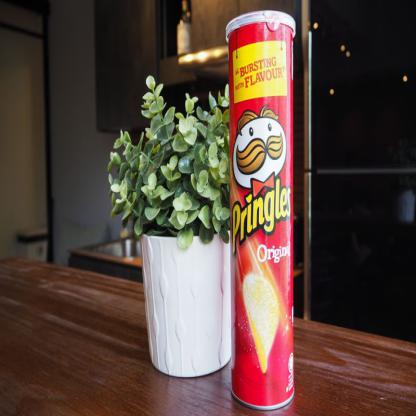potatochip: (226, 8, 296, 408)
